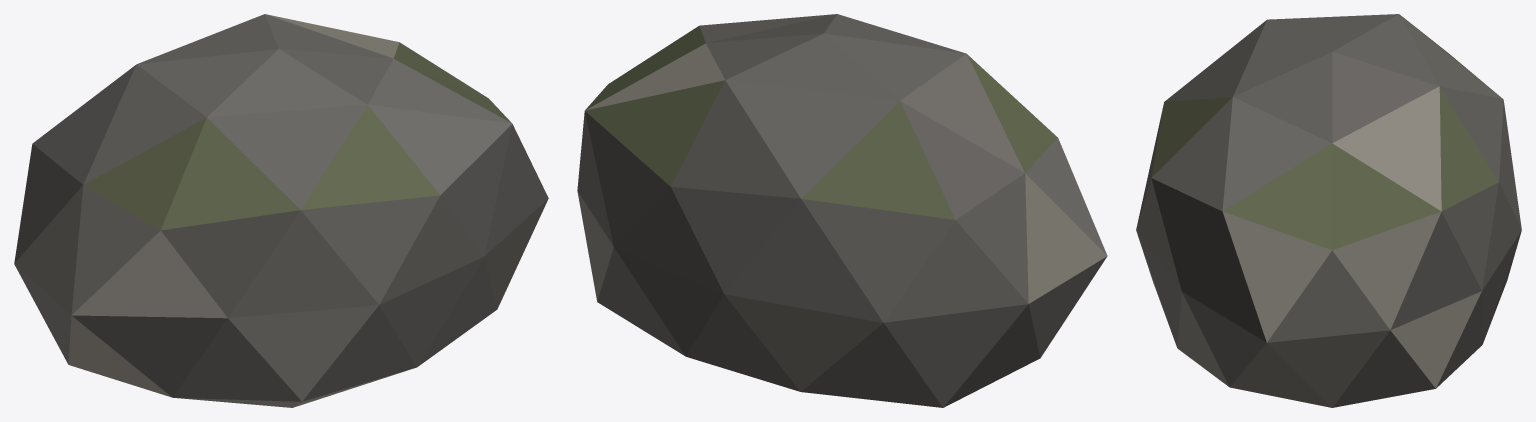
The model's file is E6_rock_b.glb.
The picture shows the model from 3 angles, left to right: view 1: azimuth 30°, elevation 25°; view 2: azimuth 150°, elevation 25°; view 3: azimuth 270°, elevation 25°; orthographic projection. The views are drawn at different scales.
Parts seen in each view (by area): view 1: E6_rock_b; view 2: E6_rock_b; view 3: E6_rock_b.
Part boxes in pixels (x1,y1,x2,y2): E6_rock_b: (14, 14, 548, 407); E6_rock_b: (577, 14, 1107, 407); E6_rock_b: (1136, 14, 1521, 407).
Bounding box in the file's own units: 0.9691 × 0.6 × 0.6935.
